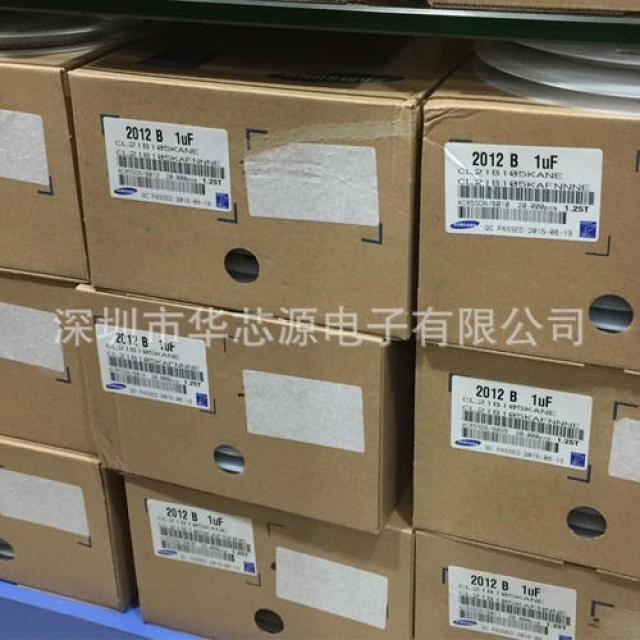box: (67, 43, 452, 340), (74, 283, 415, 535), (417, 66, 639, 371), (413, 339, 638, 579), (123, 474, 415, 639), (414, 529, 638, 638), (0, 438, 137, 613)
